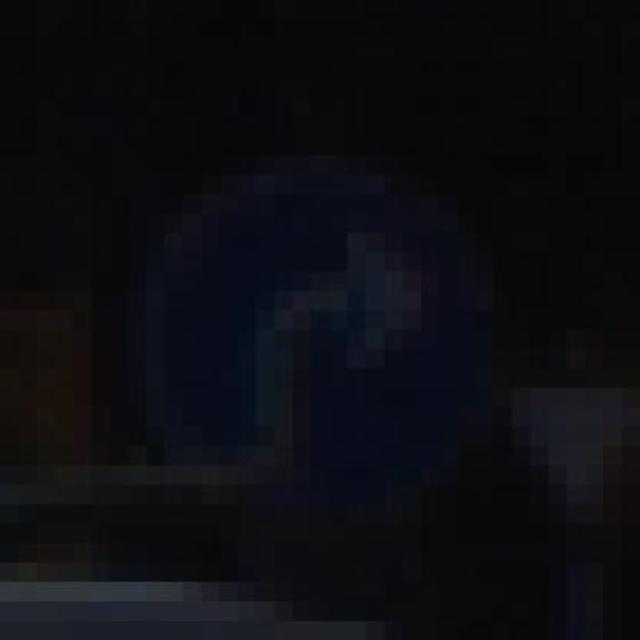Turn right ahead: (73, 97, 530, 563)
